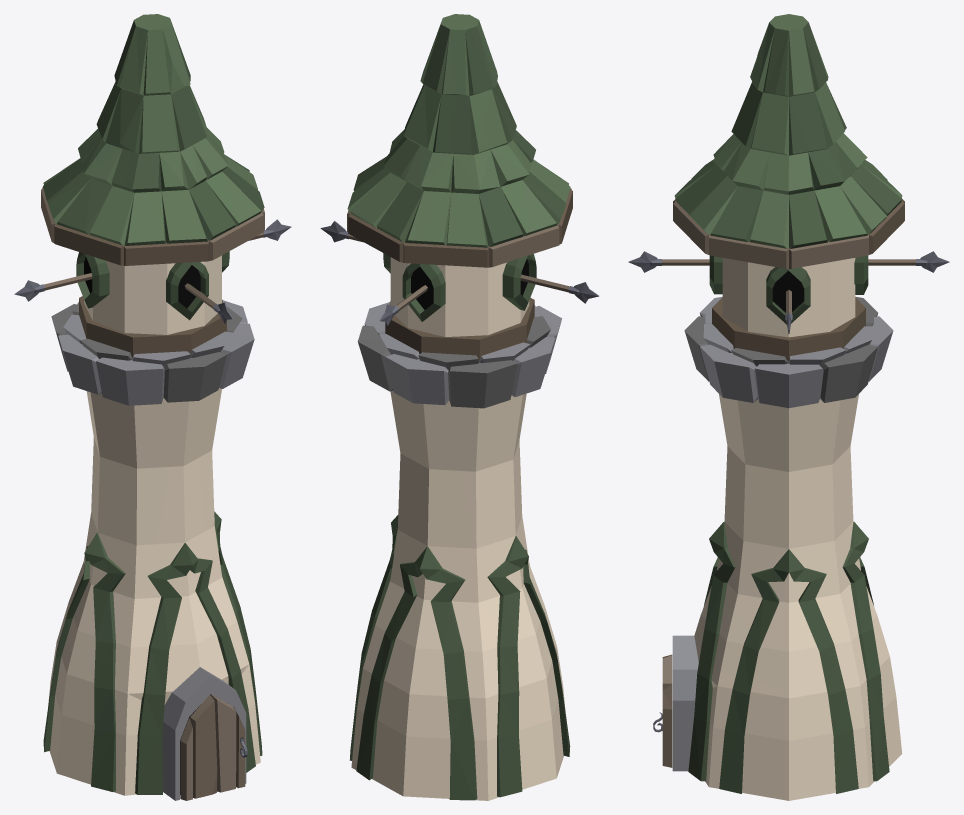
Rendered from tower.obj.
The picture shows the model from 3 angles, left to right: view 1: azimuth 30°, elevation 25°; view 2: azimuth 150°, elevation 25°; view 3: azimuth 270°, elevation 25°; orthographic projection.
Visible parts, largest first — view 1: archer_tower_LVL_1; view 2: archer_tower_LVL_1; view 3: archer_tower_LVL_1.
Part boxes in pixels (box(x1,y1,x2,y2)): archer_tower_LVL_1: box(14, 14, 291, 800); archer_tower_LVL_1: box(320, 14, 599, 800); archer_tower_LVL_1: box(628, 14, 949, 800).
Bounding box in the file's own units: 5.95 × 14.94 × 5.95.
Materials: 1 (1 with a texture image).
